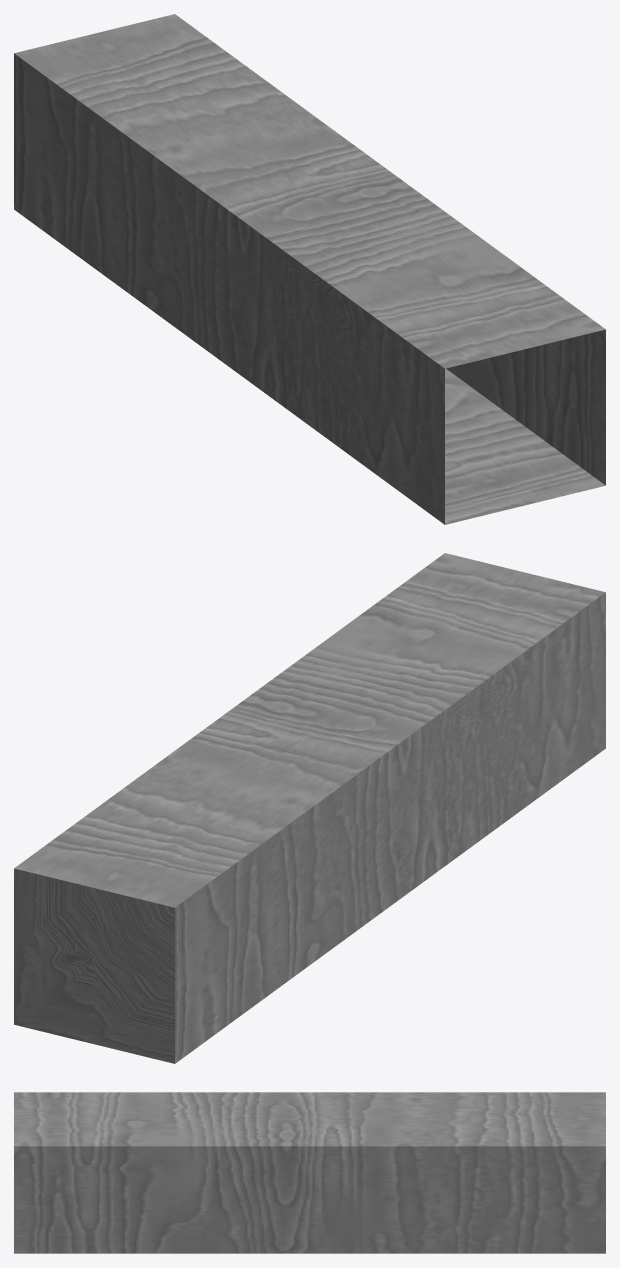
Rendered from pivot_point.gltf.
3 views of the same model, one above another, from view 1: azimuth 30°, elevation 25°; view 2: azimuth 150°, elevation 25°; view 3: azimuth 270°, elevation 25° (orthographic). The views are drawn at different scales.
Parts seen in each view (by area): view 1: Cube; view 2: Cube; view 3: Cube.
Part boxes in pixels (x1,y1,x2,y2): Cube: (14, 14, 605, 524); Cube: (14, 553, 605, 1063); Cube: (14, 1092, 605, 1253).
Bounding box in the file's own units: 0.4313 × 0.3999 × 2.
1 material, 1 textured.
